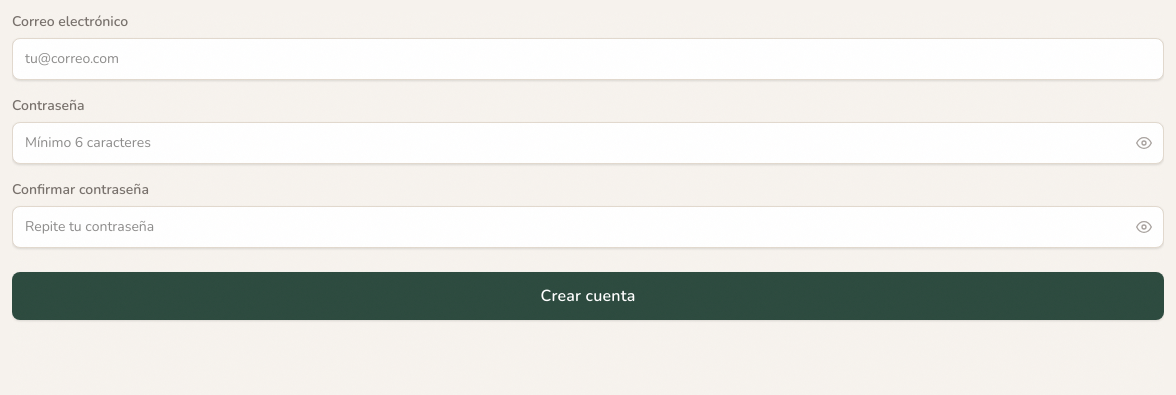
Test case: RegisterForm › muestra error cuando las contraseñas no coinciden
This screenshot has width=1176, height=395.
Type "ana@test.com" into the field labelled "Correo electrónico" at (588, 59), box [12,38,1164,80]
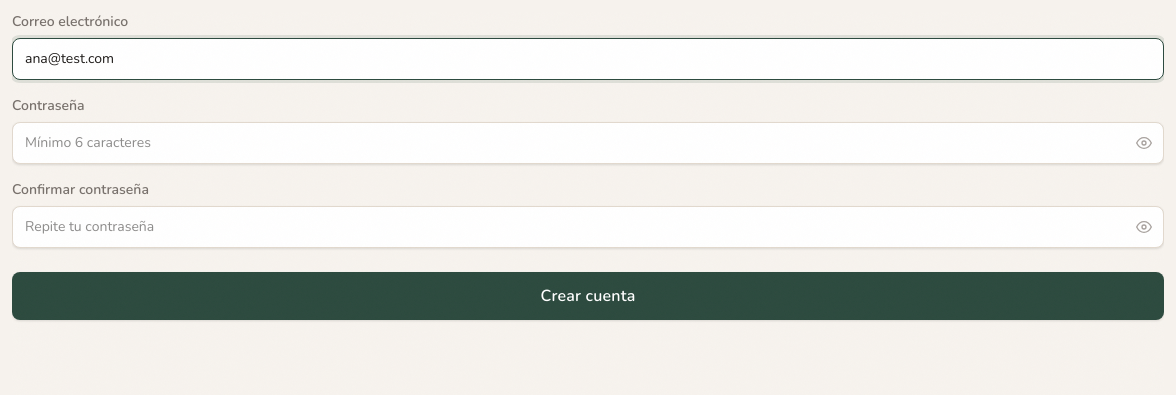
Type "abc123" into the password field labelled "Contraseña" at (588, 143), box [12,122,1164,164]
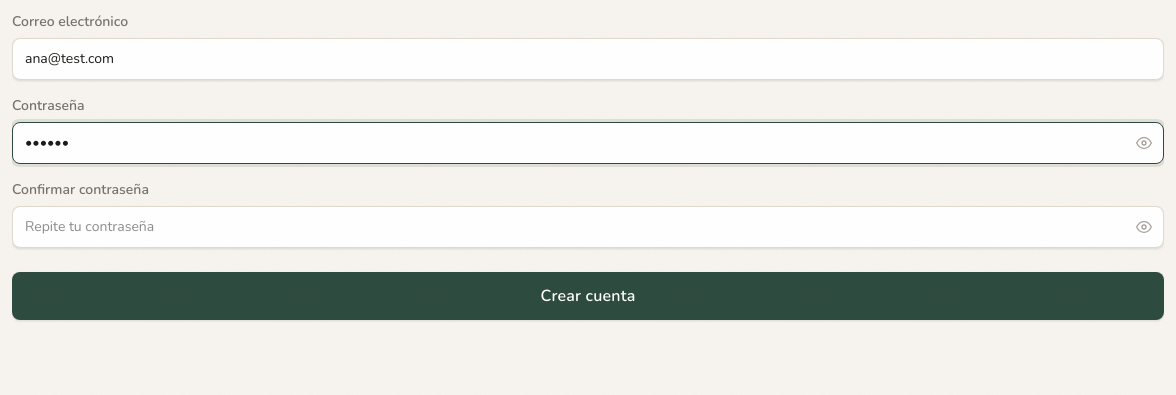
Type "xyz999" into the password field labelled "Confirmar contraseña" at (588, 227), box [12,206,1164,248]
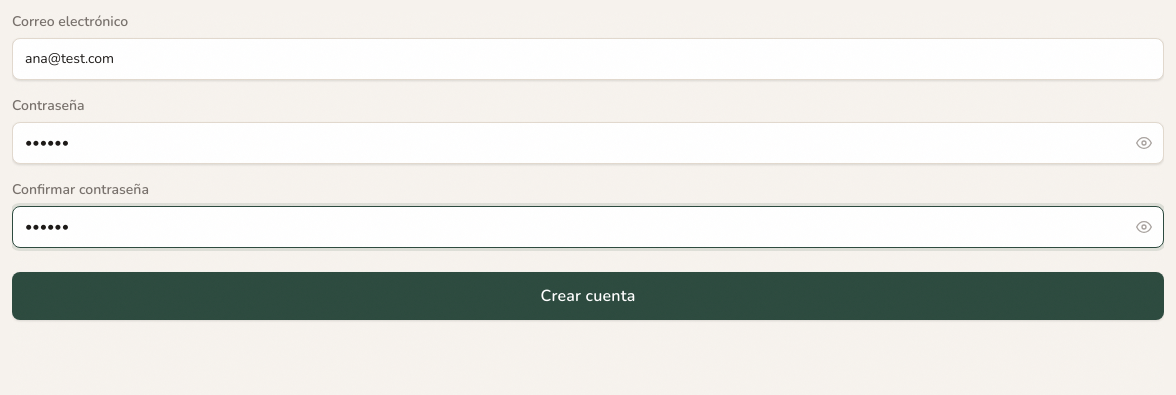
Click the button "Crear cuenta" at (588, 296), box [12,272,1164,320]
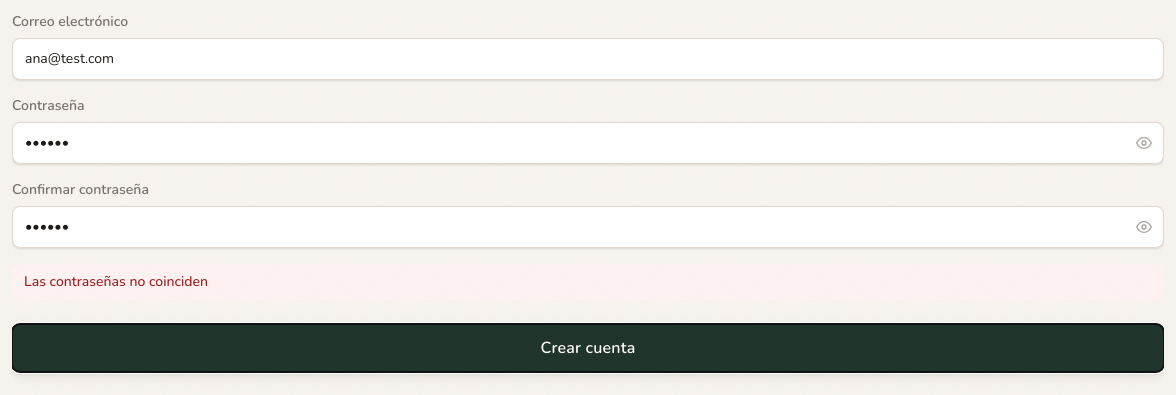
Expected: the text "Las contraseñas no coinciden" is shown, [12,264,1164,300]
